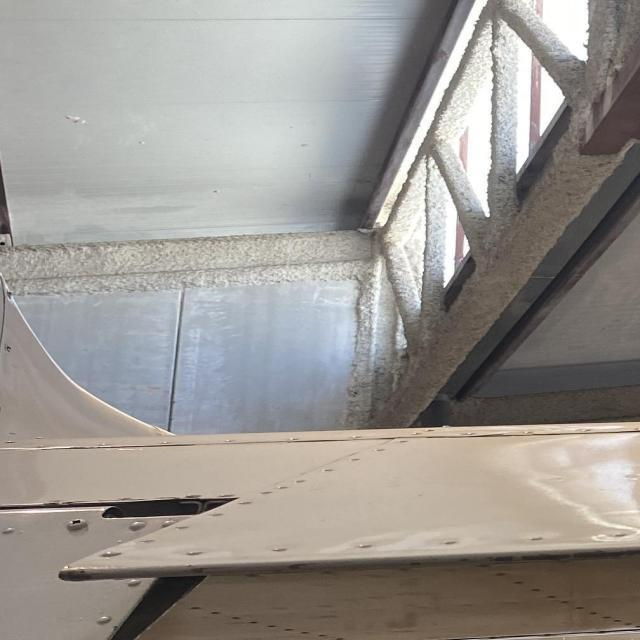Paint-off: (521, 556, 572, 560), (495, 556, 515, 565), (290, 561, 307, 571), (188, 567, 205, 574)
